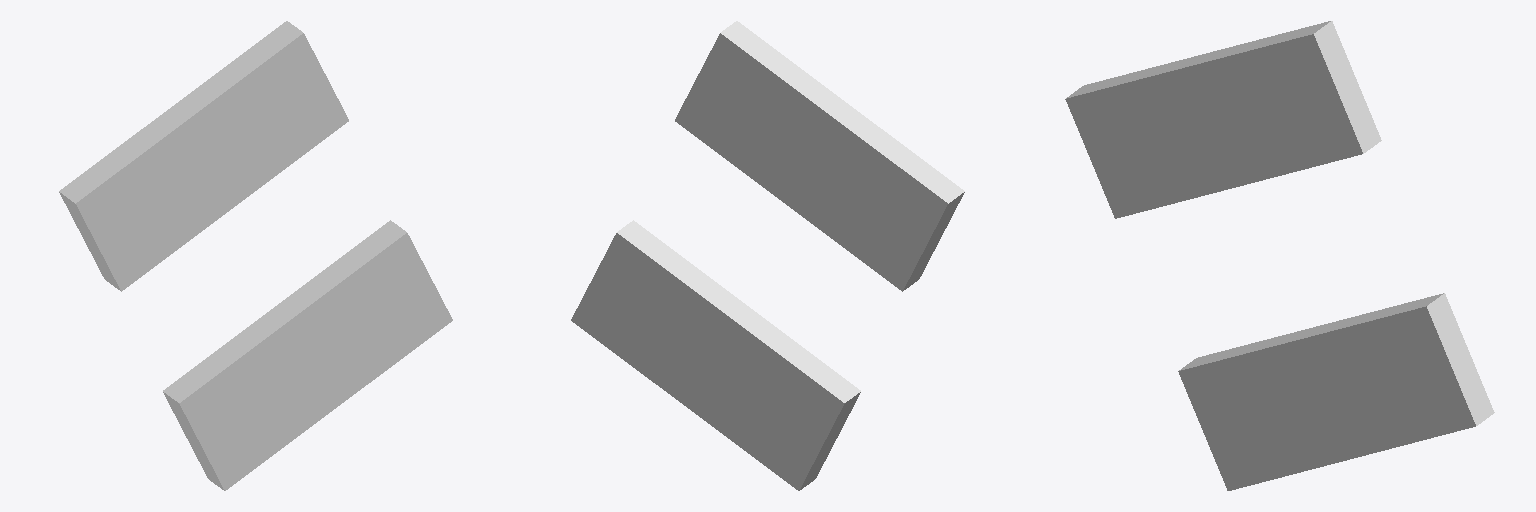
robot.urdf — ur5e:
<?xml version="1.0" ?>
<!-- =================================================================================== -->
<!-- |    This document was autogenerated by xacro from ur5e_joint_limited_box_robot_robotiq3.urdf.xacro | -->
<!-- |    EDITING THIS FILE BY HAND IS NOT RECOMMENDED                                 | -->
<!-- =================================================================================== -->
<robot name="ur5e" xmlns:xacro="http://ros.org/wiki/xacro">
  <link name="ur5e_base_link">
    <visual>
      <origin xyz="0 0 0" rpy="1.5707963 0 0"/>
      <geometry>
        <mesh filename="meshes/visual/base_vis.stl"/>
      </geometry>
      <material name="LightGrey">
        <color rgba="0.7 0.7 0.7 1"/>
      </material>
    </visual>
    <collision>
      <geometry>
        <mesh filename="meshes/collision/base.stl"/>
      </geometry>
    </collision>
    <inertial>
      <mass value="4.0"/>
      <origin rpy="0 0 0" xyz="0.0 0.0 0.0"/>
      <inertia ixx="0.00443333156" ixy="0.0" ixz="0.0" iyy="0.00443333156" iyz="0.0" izz="0.0072"/>
    </inertial>
  </link>

  <link name="ur5e_pedestal">
    <visual>
      <origin rpy="1.57079632679 0 -1.57079632679" xyz="0.26 0.345 -0.91488"/>
      <geometry>
        <mesh filename="meshes/ur5e_pedestal/pedestal.STL"/>
      </geometry>
      <material name="darkgray">
        <color rgba=".2 .2 .2 1"/>
      </material>
    </visual>
    <collision>
      <origin rpy="0 0 0" xyz="-0.02 0 -0.29"/>
      <geometry>
        <cylinder length="0.62" radius="0.18"/>
      </geometry>
    </collision>
    <inertial>
      <origin rpy="0 0 0" xyz="0 0 -0.5"/>
      <mass value="60.86397744"/>
      <inertia ixx="5.0635929" ixy="0.00103417" ixz="0.80199628" iyy="6.08689388" iyz="0.00105311" izz="4.96191932"/>
    </inertial>
  </link>

  <joint name="ur5e_pedestal_fixed" type="fixed">
    <origin rpy="0 0 0" xyz="0.0 0.0 0.0"/>
    <parent link="ur5e_base_link"/>
    <child link="ur5e_pedestal"/>
  </joint>  

  <link name="ur5e_controller_box">
    <collision>
      <origin rpy="0 0 0" xyz="-0.325 0 -0.38"/>
      <geometry>
        <box size="0.22 0.4 0.53"/>
      </geometry>
    </collision>
  </link>

  <joint name="ur5e_controller_box_fixed" type="fixed">
    <origin rpy="0 0 0" xyz="0.0 0.0 0.0"/>
    <parent link="ur5e_base_link"/>
    <child link="ur5e_controller_box"/>
  </joint>

  <link name="ur5e_pedestal_feet">
    <collision>
      <origin rpy="0 0 0" xyz="-0.1225 0 -0.758"/>
      <geometry>
        <box size="0.77 0.7 0.31"/>
      </geometry>
    </collision>
  </link>

  <joint name="ur5e_pedestal_feet_fixed" type="fixed">
    <origin rpy="0 0 0" xyz="0.0 0.0 0.0"/>
    <parent link="ur5e_base_link"/>
    <child link="ur5e_pedestal_feet"/>
  </joint>
  
  <joint name="shoulder_pan_joint" type="revolute">
    <parent link="ur5e_base_link"/>
    <child link="ur5e_shoulder_link"/>
    <origin rpy="0.0 0.0 0.0" xyz="0.0 0.0 0.163"/>
    <axis xyz="0 0 1"/>
    <limit effort="150.0" lower="-3.14159265" upper="3.14159265" velocity="3.15"/>
    <dynamics damping="0.0" friction="0.0"/>
  </joint>
  <link name="ur5e_shoulder_link">
    <visual>
    <origin xyz="0 0 0" rpy="1.5707963 0 0"/>
      <geometry>
        <mesh filename="meshes/visual/shoulder_vis.stl"/>
      </geometry>
      <material name="LightGrey">
        <color rgba="0.7 0.7 0.7 1.0"/>
      </material>
    </visual>
    <collision>
      <geometry>
        <mesh filename="meshes/collision/shoulder.stl"/>
      </geometry>
    </collision>
    <inertial>
      <mass value="3.7"/>
      <origin rpy="0 0 0" xyz="0.0 0.0 0.0"/>
      <inertia ixx="0.010267495893" ixy="0.0" ixz="0.0" iyy="0.010267495893" iyz="0.0" izz="0.00666"/>
    </inertial>
  </link>
  <joint name="shoulder_lift_joint" type="revolute">
    <parent link="ur5e_shoulder_link"/>
    <child link="ur5e_upper_arm_link"/>
    <origin rpy="0.0 1.570796325 0.0" xyz="0.0 0.138 0.0"/>
    <axis xyz="0 1 0"/>
    <limit effort="150.0" lower="-3.14159265" upper="-0.9" velocity="3.15"/>
    <!-- <limit effort="150.0" lower="-3.14159265" upper="-0.8" velocity="3.15"/> -->
    <dynamics damping="0.0" friction="0.0"/>
  </joint>
  <link name="ur5e_upper_arm_link">
    <visual>
      <origin xyz="0 0 0" rpy="1.5707963 0 0"/>
      <geometry>
        <mesh filename="meshes/visual/upperarm_vis.stl"/>
      </geometry>
      <material name="LightGrey">
        <color rgba="0.7 0.7 0.7 1.0"/>
      </material>
    </visual>
    <collision>
      <geometry>
        <mesh filename="meshes/collision/upperarm.stl"/>
      </geometry>
    </collision>
    <inertial>
      <mass value="8.393"/>
      <origin rpy="0 0 0" xyz="0.0 0.0 0.28"/>
      <inertia ixx="0.22689067591" ixy="0.0" ixz="0.0" iyy="0.22689067591" iyz="0.0" izz="0.0151074"/>
    </inertial>
  </link>
  <joint name="elbow_joint" type="revolute">
    <parent link="ur5e_upper_arm_link"/>
    <child link="ur5e_forearm_link"/>
    <origin rpy="0.0 0.0 0.0" xyz="0.0 -0.131 0.425"/>
    <axis xyz="0 1 0"/>
    <limit effort="150.0" lower="-3.14159265" upper="3.14159265" velocity="3.15"/>
    <dynamics damping="0.0" friction="0.0"/>
  </joint>
  <link name="ur5e_forearm_link">
    <visual>
      <origin xyz="0 0 0" rpy="1.5707963 0 0"/>
      <geometry>
        <mesh filename="meshes/visual/forearm_vis.stl"/>
      </geometry>
      <material name="LightGrey">
        <color rgba="0.7 0.7 0.7 1.0"/>
      </material>
    </visual>
    <collision>
      <geometry>
        <mesh filename="meshes/collision/forearm.stl"/>
      </geometry>
    </collision>
    <inertial>
      <mass value="2.275"/>
      <origin rpy="0 0 0" xyz="0.0 0.0 0.25"/>
      <inertia ixx="0.049443313556" ixy="0.0" ixz="0.0" iyy="0.049443313556" iyz="0.0" izz="0.004095"/>
    </inertial>
  </link>
  <joint name="wrist_1_joint" type="revolute">
    <parent link="ur5e_forearm_link"/>
    <child link="ur5e_wrist_1_link"/>
    <origin rpy="0.0 1.570796325 0.0" xyz="0 0 0.392"/>
    <axis xyz="0 1 0"/>
    <limit effort="28.0" lower="-3.14159265" upper="3.14159265" velocity="3.2"/>
    <dynamics damping="0.0" friction="0.0"/>
  </joint>
  <link name="ur5e_wrist_1_link">
    <visual>
      <origin xyz="0 0 0" rpy="1.5707963 0 0"/>
      <geometry>
        <mesh filename="meshes/visual/wrist1_vis.stl"/>
      </geometry>
      <material name="LightGrey">
        <color rgba="0.7 0.7 0.7 1.0"/>
      </material>
    </visual>
    <collision>
      <geometry>
        <mesh filename="meshes/collision/wrist1.stl"/>
      </geometry>
    </collision>
    <inertial>
      <mass value="1.219"/>
      <origin rpy="0 0 0" xyz="0.0 0.0 0.0"/>
      <inertia ixx="0.111172755531" ixy="0.0" ixz="0.0" iyy="0.111172755531" iyz="0.0" izz="0.21942"/>
    </inertial>
  </link>
  <joint name="wrist_2_joint" type="revolute">
    <parent link="ur5e_wrist_1_link"/>
    <child link="ur5e_wrist_2_link"/>
    <origin rpy="0.0 0.0 0.0" xyz="0.0 0.127 0.0"/>
    <axis xyz="0 0 1"/>
    <limit effort="28.0" lower="-3.14159265" upper="3.14159265" velocity="3.2"/>
    <dynamics damping="0.0" friction="0.0"/>
  </joint>
  <link name="ur5e_wrist_2_link">
    <visual>
      <origin xyz="0 0 0" rpy="1.5707963 0 0"/>
      <geometry>
        <mesh filename="meshes/visual/wrist2_vis.stl"/>
      </geometry>
      <material name="LightGrey">
        <color rgba="0.7 0.7 0.7 1.0"/>
      </material>
    </visual>
    <collision>
      <geometry>
        <mesh filename="meshes/collision/wrist2.stl"/>
      </geometry>
    </collision>
    <inertial>
      <mass value="1.219"/>
      <origin rpy="0 0 0" xyz="0.0 0.0 0.0"/>
      <inertia ixx="0.111172755531" ixy="0.0" ixz="0.0" iyy="0.111172755531" iyz="0.0" izz="0.21942"/>
    </inertial>
  </link>
  <joint name="wrist_3_joint" type="revolute">
    <parent link="ur5e_wrist_2_link"/>
    <child link="ur5e_wrist_3_link"/>
    <origin rpy="0.0 0.0 0.0" xyz="0 0 0.1"/>
    <axis xyz="0 1 0"/>
    <limit effort="28.0" lower="-3.14159265" upper="3.14159265" velocity="3.2"/>
    <dynamics damping="0.0" friction="0.0"/>
  </joint>
  <link name="ur5e_wrist_3_link">
    <visual>
      <origin xyz="0 0 0" rpy="1.5707963 0 0"/>
      <geometry>
        <mesh filename="meshes/visual/wrist3_vis.stl"/>
      </geometry>
      <material name="LightGrey">
        <color rgba="0.7 0.7 0.7 1.0"/>
      </material>
    </visual>
    <collision>
      <geometry>
        <mesh filename="meshes/collision/wrist3.stl"/>
      </geometry>
    </collision>
    <inertial>
      <mass value="0.1879"/>
      <origin rpy="0 0 0" xyz="0.0 0.0 0.0"/>
      <inertia ixx="0.0171364731454" ixy="0.0" ixz="0.0" iyy="0.0171364731454" iyz="0.0" izz="0.033822"/>
    </inertial>
  </link>
  <joint name="ee_fixed_joint" type="fixed">
    <parent link="ur5e_wrist_3_link"/>
    <child link="ur5e_right_hand"/>
    <origin rpy="-1.5707963 0.0 0" xyz="0 0.098 0"/>
  </joint>
  <link name="ur5e_right_hand">
    <collision>
      <geometry>
        <box size="0.01 0.01 0.01"/>
      </geometry>
      <origin rpy="0 0 0" xyz="-0.01 0 0"/>
    </collision>
  </link>

    <link name="right_gripper">
        <inertial>
            <origin xyz="8.625E-08 -4.6583E-06 0.03145" rpy="0 0 0" />
            <mass value="0.22652" />
            <inertia ixx="0.00020005" ixy="-4.2442E-10" ixz="-2.9069E-10" iyy="0.00017832" iyz="-3.4402E-08" izz="0.00013478" />
        </inertial>
        <visual>
        <origin xyz="0 0 -0.061525" quat="0 0.707388 -0.706825 0" />
        <geometry>
            <mesh filename="meshes/visual/robotiq_arg2f_base_link.stl" />
        </geometry>
        <material name="">
            <color rgba="0.1 0.1 0.1 1" />
        </material>
        </visual>
        <collision>
        <origin xyz="0 0 -0.061525" quat="0 0.707388 -0.706825 0" />
        <geometry>
            <mesh filename="meshes/collision/robotiq_arg2f_base_link.stl" />
        </geometry>
        </collision>
    </link>

    <joint name="right_gripper_fixed" type="fixed">
        <origin quat="0 -0.707105 0.707108 0 " xyz="0 0 -0.0625"/>
        <parent link="ur5e_right_hand"/>
        <child link="right_gripper"/>
        <axis xyz="0 0 0"/>
    </joint>

    <link name="tcp"/>
    <joint name="doosan_eef_fixed" type="fixed">
        <origin quat="1 0 0 0" xyz="0 0 0.2075"/>
        <parent link="ur5e_right_hand"/>
        <child link="tcp"/>
    </joint>

    <joint name="finger_joint" type="fixed">
        <origin xyz="0.030601 2.43684e-05 -0.11643" quat="-0.64507 0.290316 -0.290085 0.644556"/>
        <parent link="right_gripper" />
        <child link="left_outer_knuckle" />
        <axis xyz="-1 0 0" />
        <limit lower="0" upper="0.7" velocity="2.0" effort="1000" />
    </joint>

    <joint name="right_outer_knuckle_joint" type="fixed">
        <origin xyz="-0.030601 -2.43684e-05 -0.11643" quat="0.644556 -0.290085 -0.290316 0.64507"/>
        <parent link="right_gripper" />
        <child link="right_outer_knuckle" />
        <axis xyz="1 0 0" />
        <limit lower="-0.725" upper="0.725" velocity="2.0" effort="1000" />
        <mimic joint="finger_joint" multiplier="-1" offset="0" />
    </joint>

    <link name="right_outer_knuckle">
        <inertial>
            <origin xyz="-0.000200000000003065 0.0199435877845359 0.0292245259211331" rpy="0 0 0" />
            <mass value="0.00853198276973456" />
            <inertia
                ixx="2.89328108496468E-06"
                ixy="-1.57935047237397E-19"
                ixz="-1.93980378593255E-19"
                iyy="1.86719750325683E-06"
                iyz="-1.21858577871576E-06"
                izz="1.21905238907251E-06" />
        </inertial>
        <visual>
            <origin xyz="0 0 0" rpy="0 0 0" />
            <geometry>
                <mesh filename="meshes/visual/robotiq_arg2f_140_outer_knuckle.stl" />
            </geometry>
            <material name="">
                <color rgba="0.792156862745098 0.819607843137255 0.933333333333333 1" />
            </material>
        </visual>
        <collision>
            <origin xyz="0 0 0" rpy="0 0 0" />
            <geometry>
                <mesh filename="meshes/collision/robotiq_arg2f_140_outer_knuckle.stl" />
            </geometry>
        </collision>
    </link>

    <link name="right_outer_finger">
        <inertial>
            <origin xyz="0.00030115855001899 0.0373907951953854 -0.0208027427000385" rpy="0 0 0" />
            <mass value="0.022614240507152" />
            <inertia
                ixx="1.52518312458174E-05"
                ixy="9.76583423954399E-10"
                ixz="-5.43838577022588E-10"
                iyy="6.17694243867776E-06"
                iyz="6.78636130740228E-06"
                izz="1.16494917907219E-05" />
        </inertial>
        <visual>
            <origin xyz="0 0 0" rpy="0 0 0" />
            <geometry>
                <mesh filename="meshes/visual/robotiq_arg2f_140_outer_finger.stl" />
            </geometry>
            <material name="">
                <color rgba="0.1 0.1 0.1 1" />
            </material>
        </visual>
        <collision>
            <origin xyz="0 0 0" rpy="0 0 0" />
            <geometry>
            <mesh filename="meshes/collision/robotiq_arg2f_140_outer_finger.stl" />
            </geometry>
        </collision>
    </link>

    <link name="right_inner_knuckle">
        <inertial>
            <origin xyz="0.000123011831763771 0.0507850843201817 0.00103968640075166" rpy="0 0 0" />
            <mass value="0.0271177346495152" />
            <inertia
                ixx="2.61910379223783E-05"
                ixy="-2.43616858946494E-07"
                ixz="-6.37789906117123E-09"
                iyy="2.8270243746167E-06"
                iyz="-5.37200748039765E-07"
                izz="2.83695868220296E-05" />
        </inertial>
        <visual>
            <origin xyz="0 0 0" rpy="0 0 0" />
            <geometry>
            <mesh filename="meshes/visual/robotiq_arg2f_140_inner_knuckle.stl" />
            </geometry>
            <material name="">
            <color rgba="0.1 0.1 0.1 1" />
            </material>
        </visual>
        <collision>
            <origin xyz="0 0 0" rpy="0 0 0" />
            <geometry>
            <mesh filename="meshes/collision/robotiq_arg2f_140_inner_knuckle.stl" />
            </geometry>
        </collision>
    </link>

    <link name="right_inner_finger">
        <inertial>
            <origin xyz="0.000299999999999317 0.0160078233491243 -0.0136945669206257" rpy="0 0 0" />
            <mass value="0.0104003125914103" />
            <inertia
                ixx="2.71909453810972E-06"
                ixy="1.35402465472579E-21"
                ixz="-7.1817349065269E-22"
                iyy="7.69100314106116E-07"
                iyz="6.74715432769696E-07"
                izz="2.30315190420171E-06" />
        </inertial>
        <visual>
            <origin xyz="0 0 0" rpy="0 0 0" />
            <geometry>
            <mesh filename="meshes/visual/robotiq_arg2f_140_inner_finger.stl" />
            </geometry>
            <material name="">
            <color rgba="0.1 0.1 0.1 1" />
            </material>
        </visual>
        <collision>
            <origin xyz="0 0 0" rpy="0 0 0" />
            <geometry>
            <mesh filename="meshes/collision/robotiq_arg2f_140_inner_finger.stl" />
            </geometry>
        </collision>
    </link>

    <link name="right_inner_finger_pad">
        <visual>
            <origin xyz="0 0 0" rpy="0 0 0" />
            <geometry>
            <box size="0.027 0.065 0.0075"/>
            </geometry>
            <material name="">
            <color rgba="0.9 0.9 0.9 1" />
            </material>
        </visual>
        <collision>
            <origin xyz="0 0 0" rpy="0 0 0" />
            <geometry>
            <box size="0.03 0.07 0.0075"/>
            </geometry>
            <material name="">
            <color rgba="0.9 0.0 0.0 1" />
            </material>
        </collision>
    </link>

    <joint name="right_outer_finger_joint" type="fixed">
        <origin xyz="0 0.01821998610742 0.0260018192872234" rpy="0 0 0" />
        <parent link="right_outer_knuckle" />
        <child link="right_outer_finger" />
        <axis xyz="1 0 0" />
    </joint>

    <joint name="right_inner_knuckle_joint" type="fixed">
        <origin xyz="-0.0127 -1.01133e-05 -0.122945" quat="-0.644556 0.290085 0.290316 -0.64507" />
        <parent link="right_gripper" />
        <child link="right_inner_knuckle" />
        <axis xyz="1 0 0" />
        <limit lower="-0.8757" upper="0.8757" velocity="2.0" effort="1000" />
        <mimic joint="finger_joint" multiplier="-1" offset="0" />
    </joint>

    <joint name="right_inner_finger_joint" type="fixed">
        <origin xyz="0 0.0999754 -0.00221853" quat="0.935013 -0.354613 0 0" />
        <parent link="right_outer_finger" />
        <child link="right_inner_finger" />
        <axis xyz="1 0 0" />
        <limit lower="-0.8757" upper="0.8757" velocity="2.0" effort="1000" />
        <mimic joint="finger_joint" multiplier="1" offset="0" />
    </joint>

    <joint name="right_inner_finger_pad_joint" type="fixed">
        <origin xyz="0 0.0457554 -0.0272203" rpy="0 0 0" />
        <parent link="right_inner_finger" />
        <child link="right_inner_finger_pad" />
        <axis xyz="0 0 1" />
    </joint>

    <link name="left_outer_knuckle">
        <inertial>
            <origin xyz="-0.000200000000003065 0.0199435877845359 0.0292245259211331" rpy="0 0 0" />
            <mass value="0.00853198276973456" />
            <inertia
                ixx="2.89328108496468E-06"
                ixy="-1.57935047237397E-19"
                ixz="-1.93980378593255E-19"
                iyy="1.86719750325683E-06"
                iyz="-1.21858577871576E-06"
                izz="1.21905238907251E-06" />
        </inertial>
        <visual>
            <origin xyz="0 0 0" rpy="0 0 0" />
            <geometry>
                <mesh filename="meshes/visual/robotiq_arg2f_140_outer_knuckle.stl" />
            </geometry>
            <material name="">
                <color rgba="0.792156862745098 0.819607843137255 0.933333333333333 1" />
            </material>
        </visual>
        <collision>
            <origin xyz="0 0 0" rpy="0 0 0" />
            <geometry>
                <mesh filename="meshes/collision/robotiq_arg2f_140_outer_knuckle.stl" />
            </geometry>
        </collision>
    </link>

    <link name="left_outer_finger">
        <inertial>
            <origin xyz="0.00030115855001899 0.0373907951953854 -0.0208027427000385" rpy="0 0 0" />
            <mass value="0.022614240507152" />
            <inertia
                ixx="1.52518312458174E-05"
                ixy="9.76583423954399E-10"
                ixz="-5.43838577022588E-10"
                iyy="6.17694243867776E-06"
                iyz="6.78636130740228E-06"
                izz="1.16494917907219E-05" />
        </inertial>
        <visual>
            <origin xyz="0 0 0" rpy="0 0 0" />
            <geometry>
                <mesh filename="meshes/visual/robotiq_arg2f_140_outer_finger.stl" />
            </geometry>
            <material name="">
                <color rgba="0.1 0.1 0.1 1" />
            </material>
        </visual>
        <collision>
            <origin xyz="0 0 0" rpy="0 0 0" />
            <geometry>
            <mesh filename="meshes/collision/robotiq_arg2f_140_outer_finger.stl" />
            </geometry>
        </collision>
    </link>

    <link name="left_inner_knuckle">
        <inertial>
            <origin xyz="0.000123011831763771 0.0507850843201817 0.00103968640075166" rpy="0 0 0" />
            <mass value="0.0271177346495152" />
            <inertia
                ixx="2.61910379223783E-05"
                ixy="-2.43616858946494E-07"
                ixz="-6.37789906117123E-09"
                iyy="2.8270243746167E-06"
                iyz="-5.37200748039765E-07"
                izz="2.83695868220296E-05" />
        </inertial>
        <visual>
            <origin xyz="0 0 0" rpy="0 0 0" />
            <geometry>
            <mesh filename="meshes/visual/robotiq_arg2f_140_inner_knuckle.stl" />
            </geometry>
            <material name="">
            <color rgba="0.1 0.1 0.1 1" />
            </material>
        </visual>
        <collision>
            <origin xyz="0 0 0" rpy="0 0 0" />
            <geometry>
            <mesh filename="meshes/collision/robotiq_arg2f_140_inner_knuckle.stl" />
            </geometry>
        </collision>
    </link>

    <link name="left_inner_finger">
        <inertial>
            <origin xyz="0.000299999999999317 0.0160078233491243 -0.0136945669206257" rpy="0 0 0" />
            <mass value="0.0104003125914103" />
            <inertia
                ixx="2.71909453810972E-06"
                ixy="1.35402465472579E-21"
                ixz="-7.1817349065269E-22"
                iyy="7.69100314106116E-07"
                iyz="6.74715432769696E-07"
                izz="2.30315190420171E-06" />
        </inertial>
        <visual>
            <origin xyz="0 0 0" rpy="0 0 0" />
            <geometry>
            <mesh filename="meshes/visual/robotiq_arg2f_140_inner_finger.stl" />
            </geometry>
            <material name="">
            <color rgba="0.1 0.1 0.1 1" />
            </material>
        </visual>
        <collision>
            <origin xyz="0 0 0" rpy="0 0 0" />
            <geometry>
            <mesh filename="meshes/collision/robotiq_arg2f_140_inner_finger.stl" />
            </geometry>
        </collision>
    </link>

    <link name="left_inner_finger_pad">
        <visual>
            <origin xyz="0 0 0" rpy="0 0 0" />
            <geometry>
            <box size="0.027 0.065 0.0075"/>
            </geometry>
            <material name="">
            <color rgba="0.9 0.9 0.9 1" />
            </material>
        </visual>
        <collision>
            <origin xyz="0 0 0" rpy="0 0 0" />
            <geometry>
            <box size="0.03 0.07 0.0075"/>
            </geometry>
            <material name="">
            <color rgba="0.9 0.0 0.0 1" />
            </material>
        </collision>
    </link>

    <joint name="left_outer_finger_joint" type="fixed">
        <origin xyz="0 0.01821998610742 0.0260018192872234" rpy="0 0 0" />
        <parent link="left_outer_knuckle" />
        <child link="left_outer_finger" />
        <axis xyz="1 0 0" />
    </joint>

    <joint name="left_inner_knuckle_joint" type="fixed">
        <origin xyz="0.0127 1.01133e-05 -0.122945" quat="-0.64507 0.290316 -0.290085 0.644556"/>
        <parent link="right_gripper" />
        <child link="left_inner_knuckle" />
        <axis xyz="1 0 0" />
        <limit lower="-0.8757" upper="0.8757" velocity="2.0" effort="1000" />
        <mimic joint="finger_joint" multiplier="-1" offset="0" />
    </joint>

    <joint name="left_inner_finger_joint" type="fixed">
        <origin xyz="0 0.0999754 -0.00221853" quat="0.935013 -0.354613 0 0"/>
        <parent link="left_outer_finger" />
        <child link="left_inner_finger" />
        <axis xyz="1 0 0" />
        <limit lower="-0.8757" upper="0.8757" velocity="2.0" effort="1000" />
        <mimic joint="finger_joint" multiplier="1" offset="0" />
    </joint>

    <joint name="left_inner_finger_pad_joint" type="fixed">
        <origin xyz="0 0.0457554 -0.0272203" rpy="0 0 0" />
        <parent link="left_inner_finger" />
        <child link="left_inner_finger_pad" />
        <axis xyz="0 0 1" />
    </joint>

</robot>

--- Facts derived from the render (not from the file) ---
The picture shows the robot from 3 angles, left to right: view 1: azimuth 30°, elevation 25°; view 2: azimuth 150°, elevation 25°; view 3: azimuth 330°, elevation 25°; orthographic projection.
Model ur5e with 23 links and 22 joints (6 revolute, 16 fixed), rooted at ur5e_base_link, posed all joints at 0 but 1 set to mid-range because 0 is outside their limits (shoulder_lift_joint = -2.02).
Visible links, largest first — view 1: right_inner_finger_pad, left_inner_finger_pad; view 2: right_inner_finger_pad, left_inner_finger_pad; view 3: right_inner_finger_pad, left_inner_finger_pad.
Link boxes in pixels (<box>): right_inner_finger_pad: <box>59,21,348,291</box>; left_inner_finger_pad: <box>163,220,452,490</box>; right_inner_finger_pad: <box>675,21,964,291</box>; left_inner_finger_pad: <box>571,220,860,490</box>; right_inner_finger_pad: <box>1065,21,1381,218</box>; left_inner_finger_pad: <box>1178,293,1494,490</box>.
Bounding box of the posed robot: 0.0969 × 0.0075 × 0.1077 m (x, y, z).
Meshes: 13 distinct files referenced, 0 mesh visuals loaded (none loaded); not drawn: 17 (reference not matched to a file when rendering).